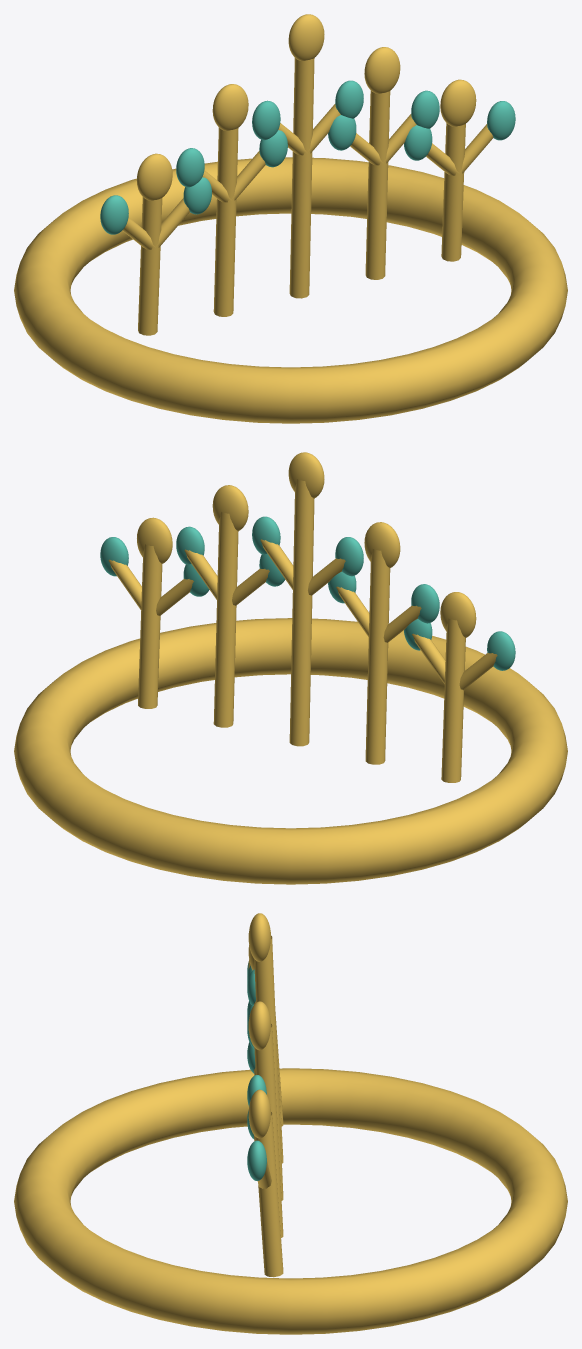
File: crown.glb
The picture shows the model from 3 angles, top to bottom: view 1: azimuth 30°, elevation 25°; view 2: azimuth 150°, elevation 25°; view 3: azimuth 270°, elevation 25°; orthographic projection.
Parts seen in each view (by area): view 1: Crown_Band, Crown_Branch_2, Crown_Branch_1, Crown_Branch_3, Crown_Branch_0, Crown_Branch_4, Crown_Top_4, Crown_Top_2, Crown_Top_3, Crown_Top_0, Crown_Top_1, Crown_Jade_0_-1 (+14 smaller); view 2: Crown_Band, Crown_Branch_2, Crown_Branch_1, Crown_Branch_3, Crown_Branch_4, Crown_Branch_0, Crown_Top_1, Crown_Top_2, Crown_Top_3, Crown_Top_0, Crown_Top_4, Crown_Jade_0_-1 (+15 smaller); view 3: Crown_Band, Crown_Branch_4, Crown_Branch_2, Crown_Branch_3, Crown_Top_3, Crown_Top_2, Crown_Top_4, Crown_Jade_4_1.
Boxes of the visible parts, x1,y1,x2,y2 form: Crown_Band: (14,157,567,423); Crown_Branch_2: (289,58,314,298); Crown_Branch_1: (213,127,238,316); Crown_Branch_3: (365,90,390,279); Crown_Branch_0: (138,197,162,335); Crown_Branch_4: (441,123,465,261); Crown_Top_4: (440,79,476,126); Crown_Top_2: (288,14,324,61); Crown_Top_3: (364,47,400,93); Crown_Top_0: (136,153,172,200); Crown_Top_1: (212,84,248,130); Crown_Jade_0_-1: (100,195,128,234); Crown_Band: (14,618,567,884); Crown_Branch_2: (289,479,314,746); Crown_Branch_1: (365,549,390,764); Crown_Branch_3: (213,512,238,727); Crown_Branch_4: (138,544,162,708); Crown_Branch_0: (441,618,465,782); Crown_Top_1: (364,522,400,568); Crown_Top_2: (288,452,324,498); Crown_Top_3: (212,485,248,530); Crown_Top_0: (440,592,476,637); Crown_Top_4: (137,517,172,563); Crown_Jade_0_-1: (487,631,515,670); Crown_Band: (14,1068,567,1334); Crown_Branch_4: (254,1112,283,1277); Crown_Branch_2: (254,935,283,1200); Crown_Branch_3: (254,1024,283,1237); Crown_Top_3: (248,1001,271,1050); Crown_Top_2: (248,913,271,961); Crown_Top_4: (248,1089,271,1138); Crown_Jade_4_1: (247,1140,266,1180).
Size of the model in its own units: 1.96 by 1.22 by 1.96.
